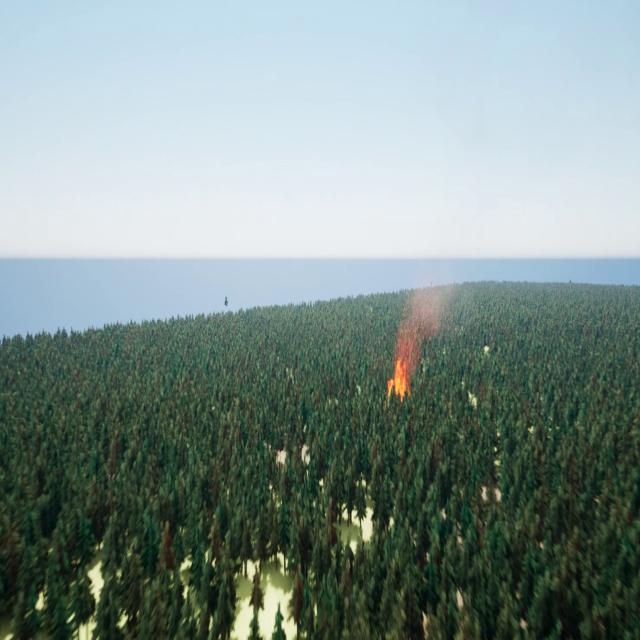fire: (388, 360, 408, 400)
smoke: (397, 276, 451, 381)
